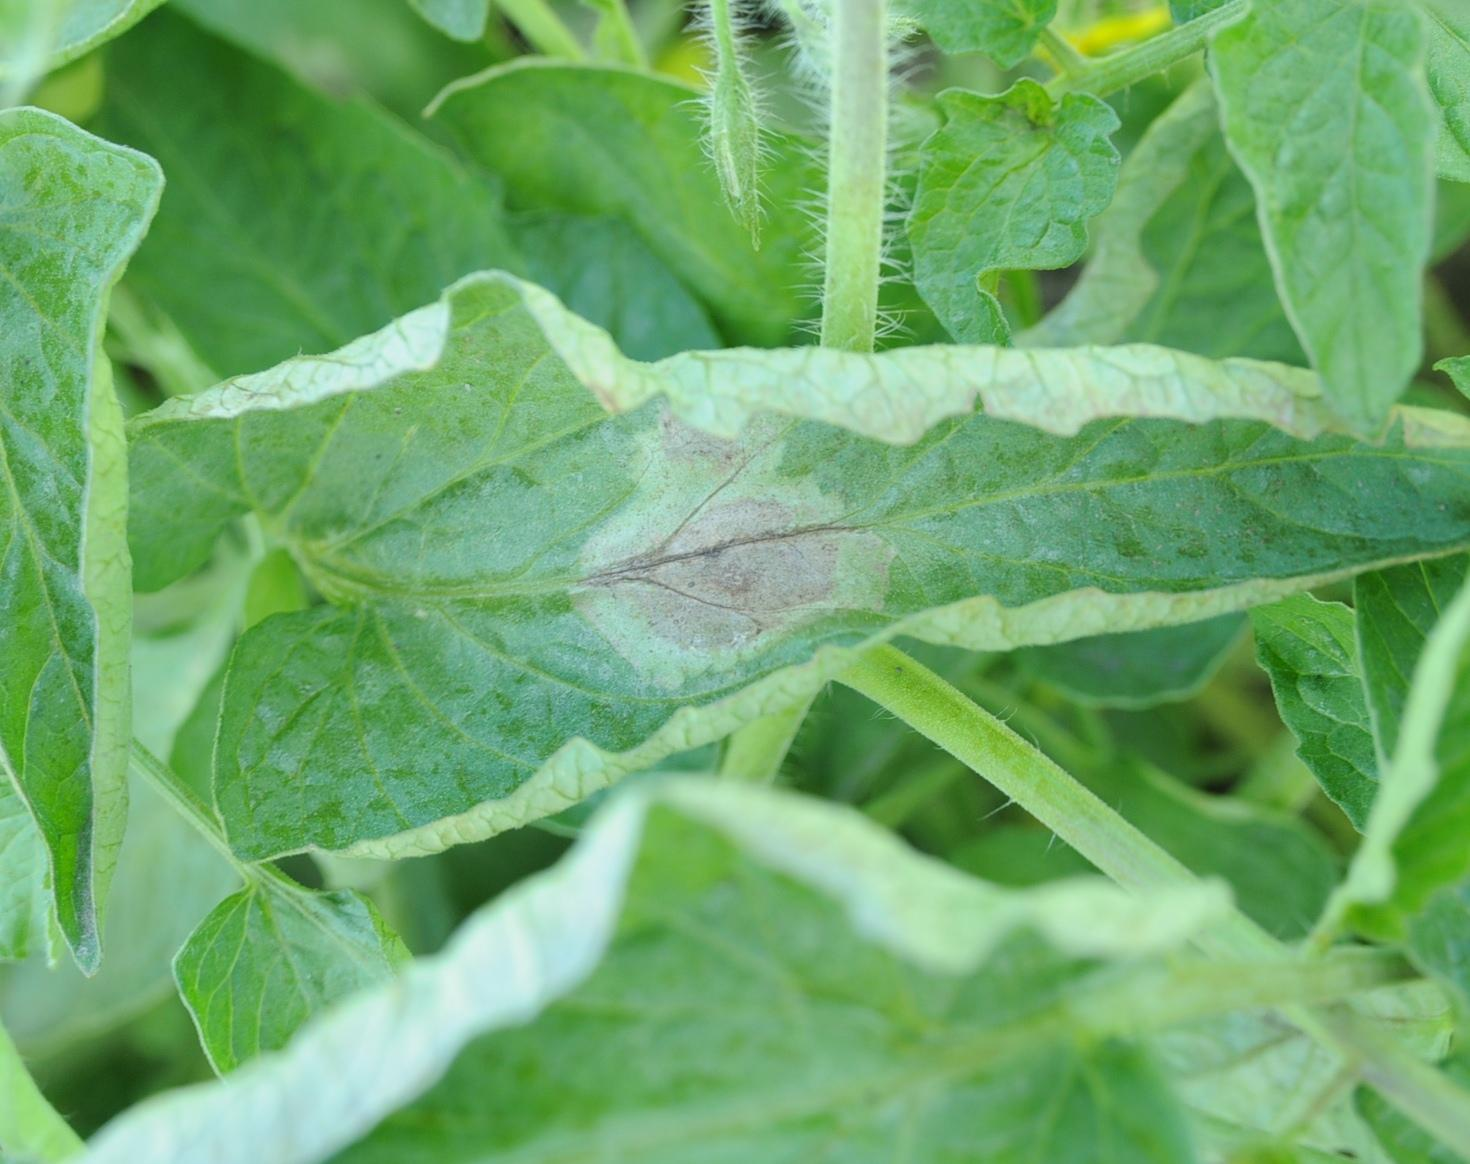Tomato leaf mosaic virus: (174, 328, 1470, 843)
